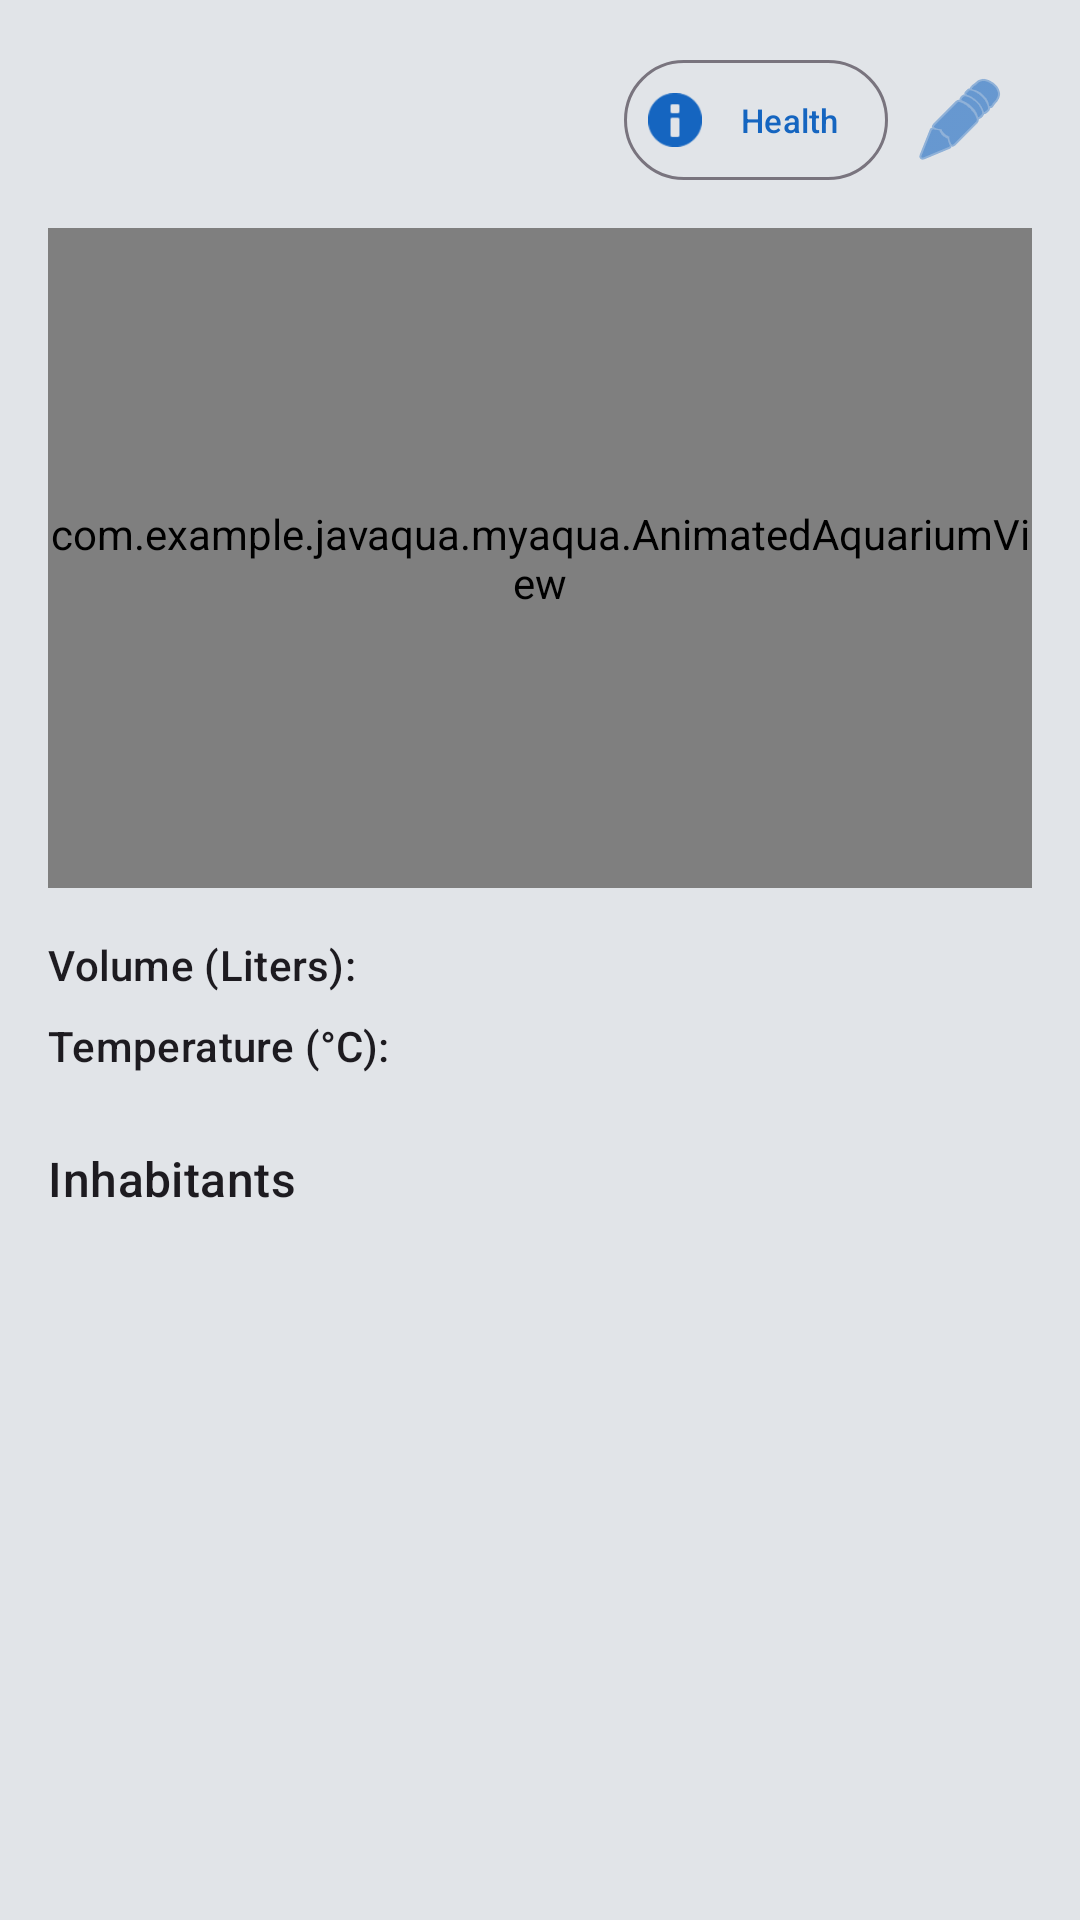

Point at icon controls on the screen. Image size 1080px×1920px, points as (x,y).
Edit Aquarium: (959,119)
